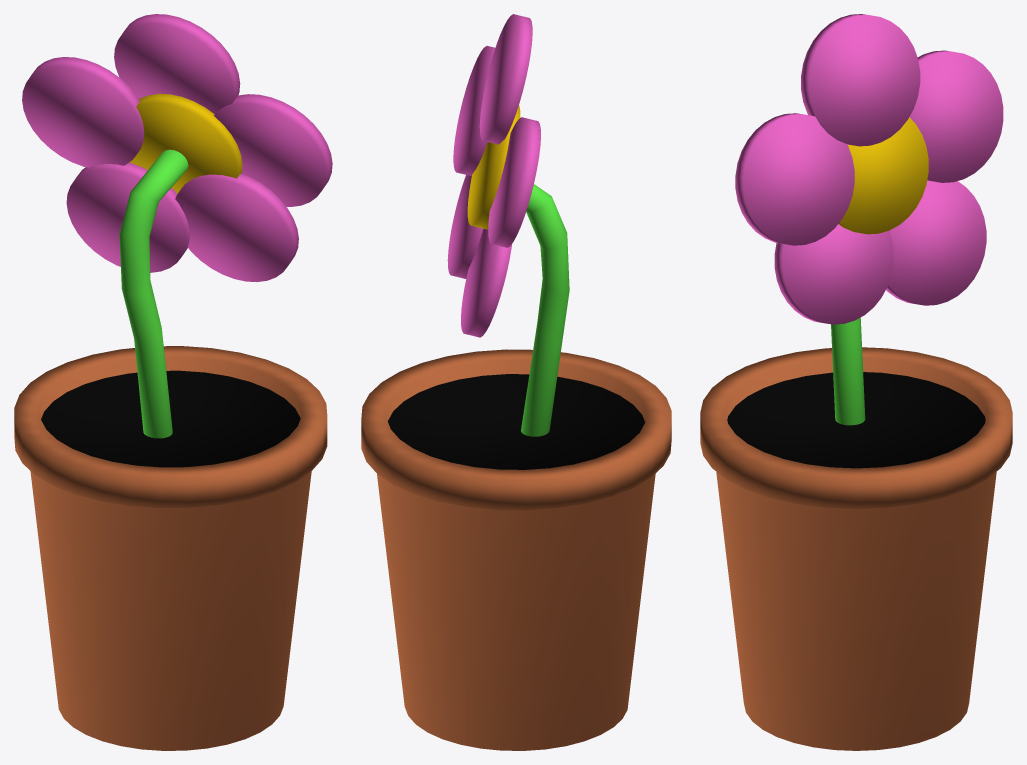
Rendered from PotFleur.fbx.
3 views of the same model, side by side, from view 1: azimuth 30°, elevation 25°; view 2: azimuth 150°, elevation 25°; view 3: azimuth 270°, elevation 25° (orthographic).
Parts seen in each view (by area): view 1: Pot de fleur; view 2: Pot de fleur; view 3: Pot de fleur.
Boxes of the visible parts, box(x1,y1,x2,y2) form: Pot de fleur: box(14, 14, 332, 750); Pot de fleur: box(361, 14, 671, 750); Pot de fleur: box(700, 14, 1012, 750).
Size of the model in its own units: 130 by 315 by 130.
